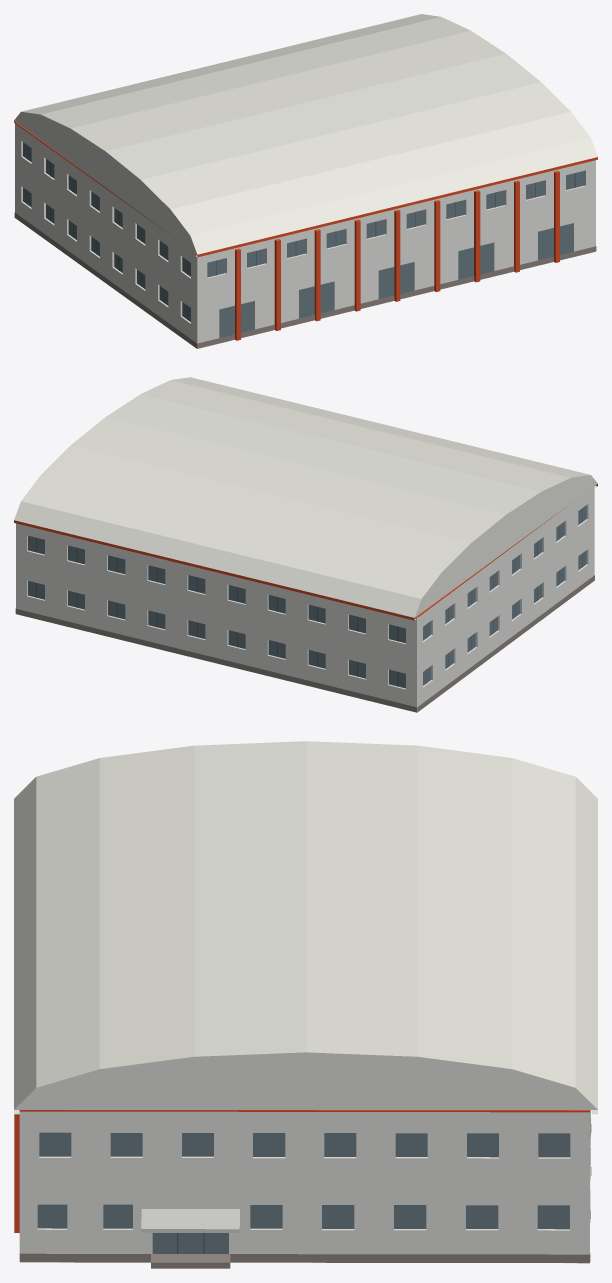
3 renders of one model, top to bottom at view 1: azimuth 30°, elevation 25°; view 2: azimuth 150°, elevation 25°; view 3: azimuth 270°, elevation 25°, orthographic. The views are drawn at different scales.
Parts seen in each view (by area): view 1: gym__vaultRoof, gym__wall, gym__glass, gym__trim, gym__vaultEnd, gym__base, gym__parapet, gym__frame; view 2: gym__vaultRoof, gym__wall, gym__glass, gym__vaultEnd, gym__base, gym__trim, gym__parapet, gym__frame; view 3: gym__vaultRoof, gym__wall, gym__vaultEnd, gym__glass, gym__base, gym__parapet, gym__canopy, gym__trim.
Boxes of the visible parts, box(x1,y1,x2,y2) form: gym__vaultRoof: box(21, 14, 597, 254); gym__wall: box(15, 127, 595, 348); gym__glass: box(23, 142, 584, 337); gym__trim: box(14, 121, 597, 340); gym__vaultEnd: box(14, 112, 197, 254); gym__base: box(14, 212, 596, 348); gym__parapet: box(15, 123, 595, 258); gym__frame: box(27, 146, 575, 319); gym__vaultRoof: box(14, 377, 589, 617); gym__wall: box(16, 490, 594, 711); gym__glass: box(28, 505, 586, 688); gym__vaultEnd: box(415, 475, 597, 617); gym__base: box(15, 575, 594, 712); gym__trim: box(14, 484, 597, 620); gym__parapet: box(16, 486, 594, 621); gym__frame: box(36, 508, 582, 686); gym__vaultRoof: box(14, 741, 597, 1109); gym__wall: box(19, 1110, 590, 1254); gym__vaultEnd: box(14, 1052, 597, 1109); gym__glass: box(37, 1132, 570, 1253); gym__base: box(19, 1124, 591, 1268); gym__parapet: box(19, 1111, 589, 1118); gym__canopy: box(141, 1209, 239, 1232); gym__trim: box(14, 1110, 590, 1232).
Bounding box in the file's own units: 49.55 × 15 × 36.8.
